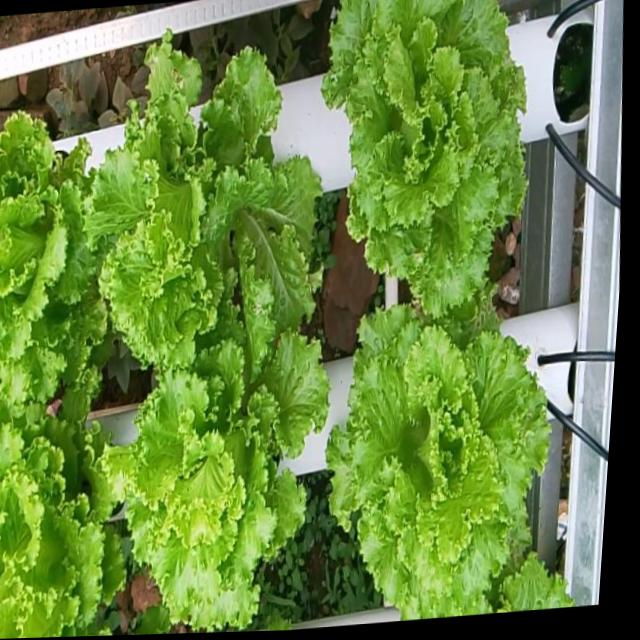Mature: (88, 8, 322, 370), (326, 300, 558, 621), (104, 330, 329, 632), (322, 0, 528, 319), (0, 387, 124, 639), (0, 110, 106, 402)
